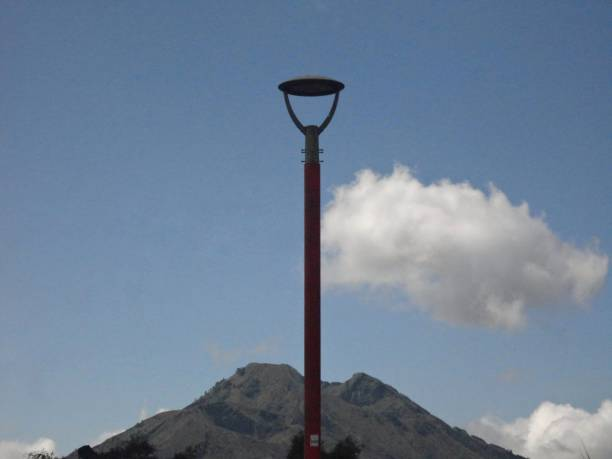light_pole: (294, 124, 330, 458)
